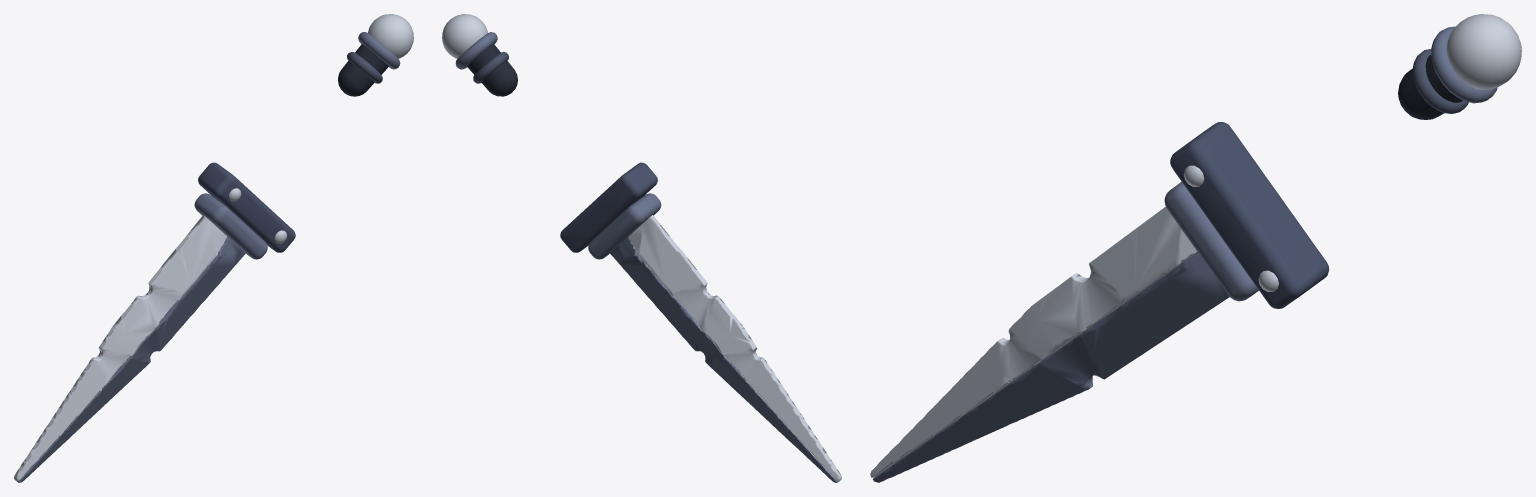
Rendered from nail-sword.glb.
3 views of the same model, side by side, from view 1: azimuth 30°, elevation 25°; view 2: azimuth 150°, elevation 25°; view 3: azimuth 330°, elevation 25° (orthographic). The views are drawn at different scales.
Parts seen in each view (by area): view 1: nail_sword_blade, nail_sword_facet, nail_sword_guard, nail_sword_ring, nail_sword_knob, nail_sword_grip, nail_sword_pommel, nail_sword_wraps; view 2: nail_sword_blade, nail_sword_facet, nail_sword_guard, nail_sword_ring, nail_sword_knob, nail_sword_grip, nail_sword_pommel, nail_sword_wraps; view 3: nail_sword_blade, nail_sword_facet, nail_sword_guard, nail_sword_knob, nail_sword_ring, nail_sword_pommel, nail_sword_grip, nail_sword_wraps, nail_sword_rivets.
Boxes of the visible parts, x1,y1,x2,y2 form: nail_sword_blade: [14, 215, 226, 481]; nail_sword_facet: [17, 236, 245, 482]; nail_sword_guard: [198, 162, 295, 252]; nail_sword_ring: [194, 193, 267, 259]; nail_sword_knob: [368, 14, 413, 58]; nail_sword_grip: [338, 44, 388, 96]; nail_sword_pommel: [358, 32, 400, 69]; nail_sword_wraps: [347, 52, 382, 83]; nail_sword_blade: [628, 215, 841, 481]; nail_sword_facet: [610, 237, 838, 482]; nail_sword_guard: [560, 162, 657, 252]; nail_sword_ring: [588, 193, 661, 259]; nail_sword_knob: [442, 14, 487, 58]; nail_sword_grip: [467, 44, 517, 96]; nail_sword_pommel: [455, 32, 497, 69]; nail_sword_wraps: [473, 52, 508, 83]; nail_sword_blade: [870, 206, 1197, 477]; nail_sword_facet: [873, 252, 1229, 482]; nail_sword_guard: [1170, 122, 1329, 308]; nail_sword_knob: [1446, 14, 1521, 89]; nail_sword_ring: [1164, 182, 1258, 301]; nail_sword_pommel: [1431, 26, 1497, 103]; nail_sword_grip: [1398, 54, 1463, 119]; nail_sword_wraps: [1412, 49, 1468, 113]; nail_sword_rivets: [1183, 165, 1278, 291].
Bounding box in the file's own units: 0.9814 × 0.8895 × 0.1111.
